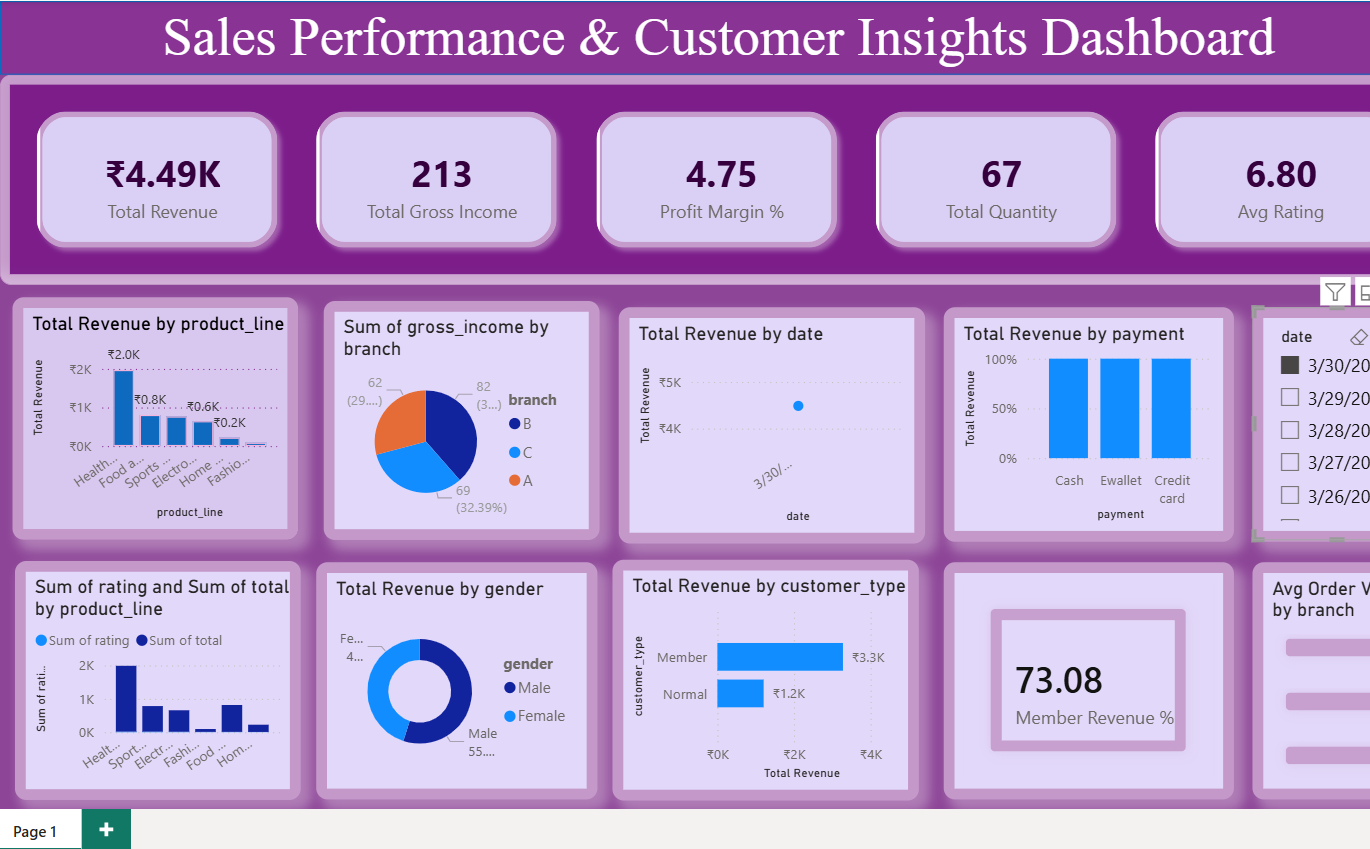

The dashboard page shown, as its layout file describes it:
{"tool":"powerbi","page":{"name":"Page 1","canvas":[1280,720],"ordinal":0},"visuals":[{"type":"cardVisual","fields":{"Data":["public sales_data.Total Revenue","public sales_data.Total Gross Income","public sales_data.Profit Margin %","public sales_data.Total Quantity","public sales_data.Avg Rating"]},"box":[0,65.7,1280,187.1],"z":0},{"type":"pieChart","fields":{"Category":["public sales_data.branch"],"Y":["Sum(public sales_data.gross_income)"]},"box":[288.6,267.1,245.7,212.9],"z":1000},{"type":"clusteredColumnChart","fields":{"Category":["public sales_data.product_line"],"Y":["public sales_data.Total Revenue"]},"box":[11.4,264.3,254.3,215.7],"z":2000},{"type":"lineChart","fields":{"Category":["public sales_data.date"],"Y":["public sales_data.Total Revenue"]},"box":[551.4,272.9,272.9,210],"z":3000},{"type":"hundredPercentStackedColumnChart","fields":{"Category":["public sales_data.payment"],"Y":["public sales_data.Total Revenue"]},"box":[840,272.9,258.6,208.6],"z":4000},{"type":"lineStackedColumnComboChart","fields":{"Y":["Sum(public sales_data.rating)","Sum(public sales_data.total)"],"Category":["public sales_data.product_line"]},"box":[12.9,498.6,254.3,212.9],"z":5000},{"type":"donutChart","fields":{"Category":["public sales_data.gender"],"Y":["public sales_data.Total Revenue"]},"box":[281.4,500,250,211.4],"z":6000},{"type":"clusteredBarChart","fields":{"Category":["public sales_data.customer_type"],"Y":["public sales_data.Total Revenue"]},"box":[545.7,497.1,272.9,214.3],"z":7000},{"type":"cardVisual","fields":{"Data":["public sales_data.Member Revenue %"]},"box":[840,500,258.6,211.4],"z":8000},{"type":"slicer","fields":{"Values":["public sales_data.date"]},"box":[1115.7,272.9,148.6,208.6],"z":9000},{"type":"shape","box":[0,0,1280,65.7],"z":10000},{"type":"textbox","box":[0,0,1280,65.7],"z":11000},{"type":"cardVisual","fields":{"Data":["public sales_data.Avg Order Value"]},"box":[1115.7,500,148.6,211.4],"z":12000}]}

Visuals, with their boxes on the page's 1280x720 design canvas (x1, y1, x2, y2). These are canvas units, not pixel positions in the 1370x849 screenshot, which may show the page scaled, cropped or inside an application window:
cardVisual - public sales_data.Total Revenue x public sales_data.Total Gross Income: x1=0, y1=66, x2=1280, y2=253
pieChart - public sales_data.branch x Sum(public sales_data.gross_income): x1=289, y1=267, x2=534, y2=480
clusteredColumnChart - public sales_data.product_line x public sales_data.Total Revenue: x1=11, y1=264, x2=266, y2=480
lineChart - public sales_data.date x public sales_data.Total Revenue: x1=551, y1=273, x2=824, y2=483
hundredPercentStackedColumnChart - public sales_data.payment x public sales_data.Total Revenue: x1=840, y1=273, x2=1099, y2=482
lineStackedColumnComboChart - Sum(public sales_data.rating) x Sum(public sales_data.total): x1=13, y1=499, x2=267, y2=712
donutChart - public sales_data.gender x public sales_data.Total Revenue: x1=281, y1=500, x2=531, y2=711
clusteredBarChart - public sales_data.customer_type x public sales_data.Total Revenue: x1=546, y1=497, x2=819, y2=711
cardVisual - public sales_data.Member Revenue %: x1=840, y1=500, x2=1099, y2=711
slicer - public sales_data.date: x1=1116, y1=273, x2=1264, y2=482
shape: x1=0, y1=0, x2=1280, y2=66
textbox: x1=0, y1=0, x2=1280, y2=66
cardVisual - public sales_data.Avg Order Value: x1=1116, y1=500, x2=1264, y2=711
